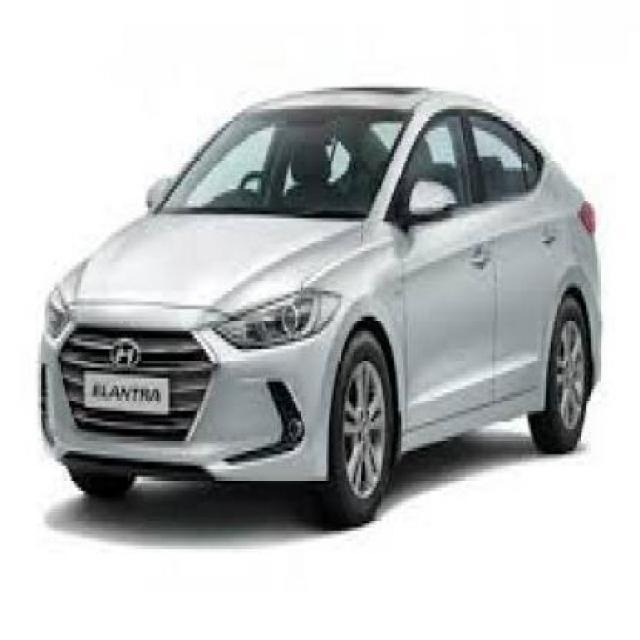vehicle: (31, 74, 606, 532)
